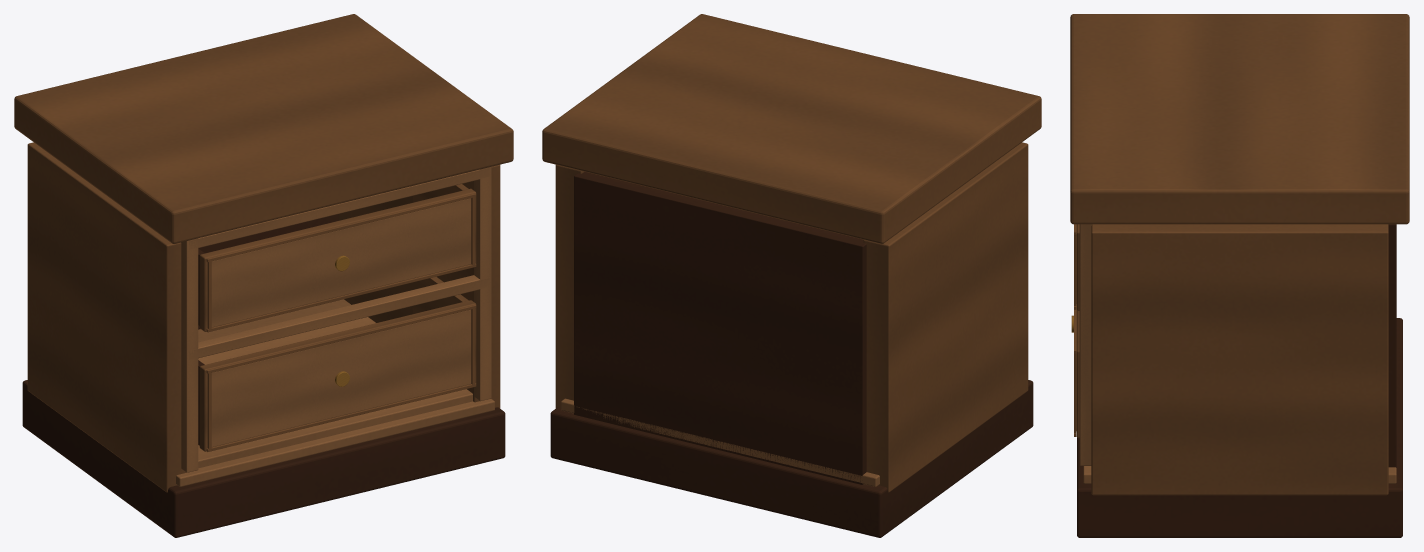
The model's file is asset.glb.
The picture shows the model from 3 angles, left to right: view 1: azimuth 30°, elevation 25°; view 2: azimuth 150°, elevation 25°; view 3: azimuth 270°, elevation 25°; orthographic projection. The views are drawn at different scales.
Visible parts, largest first — view 1: MaterialBatch_Room_furniture_quarter-sawn_oak, MaterialBatch_Room_furniture_light_oak, MaterialBatch_Room_furniture_smoked_walnut; view 2: MaterialBatch_Room_furniture_quarter-sawn_oak, MaterialBatch_Room_furniture_smoked_walnut, MaterialBatch_Room_furniture_light_oak; view 3: MaterialBatch_Room_furniture_quarter-sawn_oak, MaterialBatch_Room_furniture_smoked_walnut, MaterialBatch_Room_furniture_light_oak.
Part boxes in pixels (x1=…): MaterialBatch_Room_furniture_quarter-sawn_oak: x1=14, y1=14, x2=513, y2=492; MaterialBatch_Room_furniture_light_oak: x1=176, y1=166, x2=494, y2=486; MaterialBatch_Room_furniture_smoked_walnut: x1=22, y1=214, x2=505, y2=537; MaterialBatch_Room_furniture_quarter-sawn_oak: x1=542, y1=14, x2=1041, y2=492; MaterialBatch_Room_furniture_smoked_walnut: x1=550, y1=171, x2=1033, y2=537; MaterialBatch_Room_furniture_light_oak: x1=561, y1=398, x2=879, y2=486; MaterialBatch_Room_furniture_quarter-sawn_oak: x1=1070, y1=14, x2=1409, y2=495; MaterialBatch_Room_furniture_smoked_walnut: x1=1077, y1=224, x2=1402, y2=537; MaterialBatch_Room_furniture_light_oak: x1=1076, y1=224, x2=1396, y2=483.
Bounding box in the file's own units: 26 × 24 × 21.
4 materials, 4 textured.
